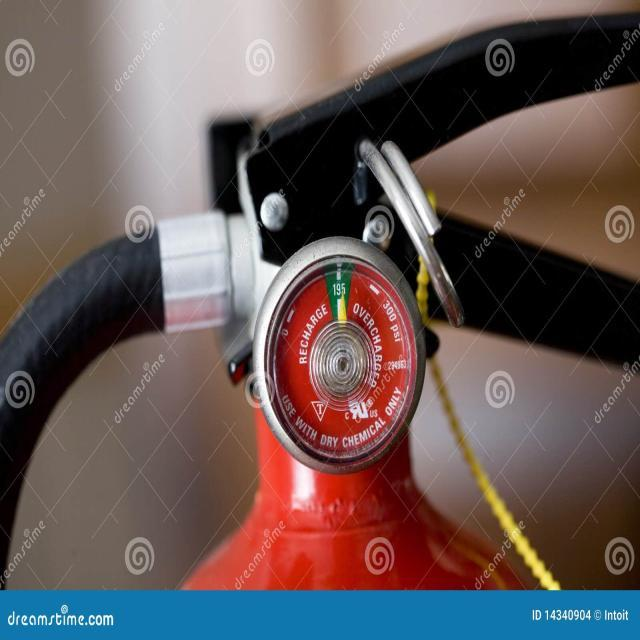pressure gauge: (254, 238, 424, 472)
